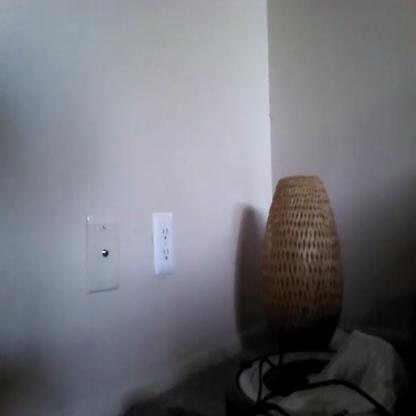OUTLET: (152, 212, 173, 274)
